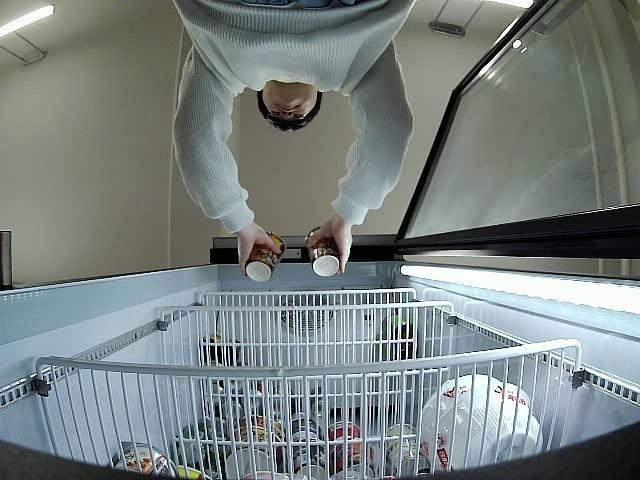06_nuguri_S: (247, 234, 286, 282), (305, 229, 340, 278)
